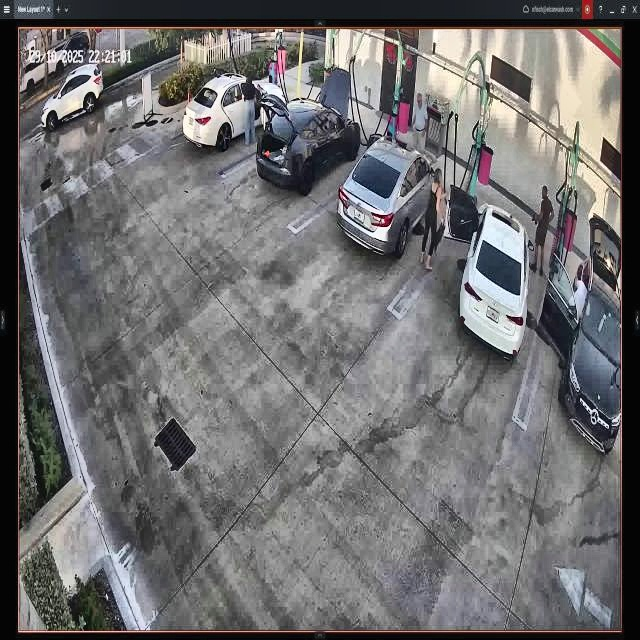Car: (448, 180, 532, 361), (254, 70, 360, 196), (342, 135, 437, 260), (190, 73, 284, 157)
